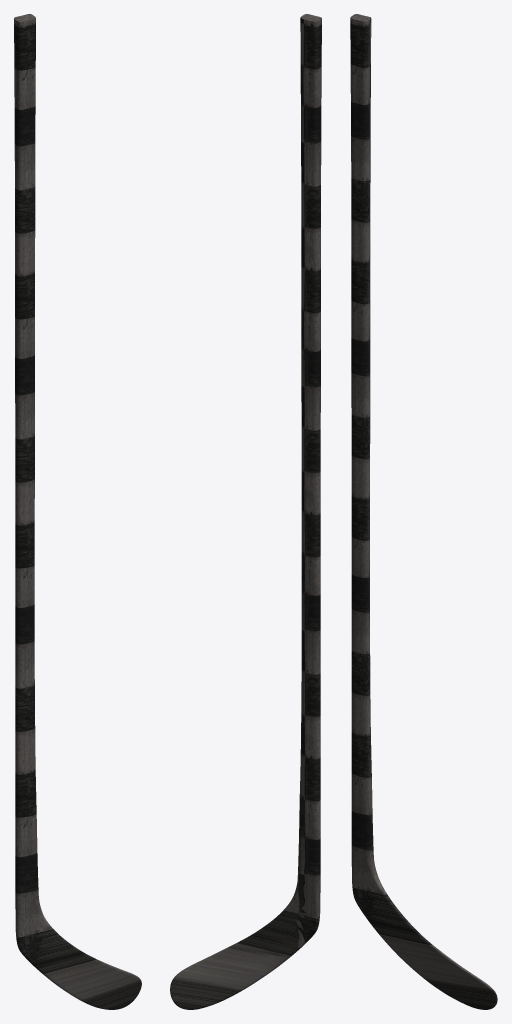
The model's file is P102-SBO.glb.
The picture shows the model from 3 angles, left to right: view 1: azimuth 30°, elevation 25°; view 2: azimuth 150°, elevation 25°; view 3: azimuth 330°, elevation 25°; orthographic projection. The views are drawn at different scales.
Parts seen in each view (by area): view 1: geometry_0; view 2: geometry_0; view 3: geometry_0.
Boxes of the visible parts, <box> form: geometry_0: <box>14,14,141,1009</box>; geometry_0: <box>170,14,321,1009</box>; geometry_0: <box>350,14,497,1009</box>.
Bounding box in the file's own units: 233 × 1650 × 57.36.
1 material, 1 textured.
